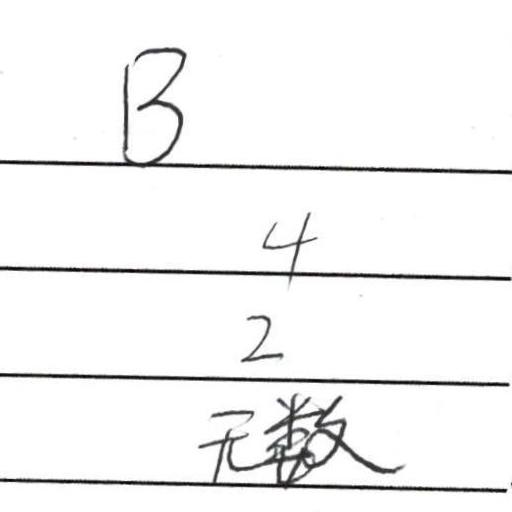ans: (197, 390, 403, 486), (111, 39, 189, 168), (254, 206, 318, 284), (233, 306, 283, 363)
